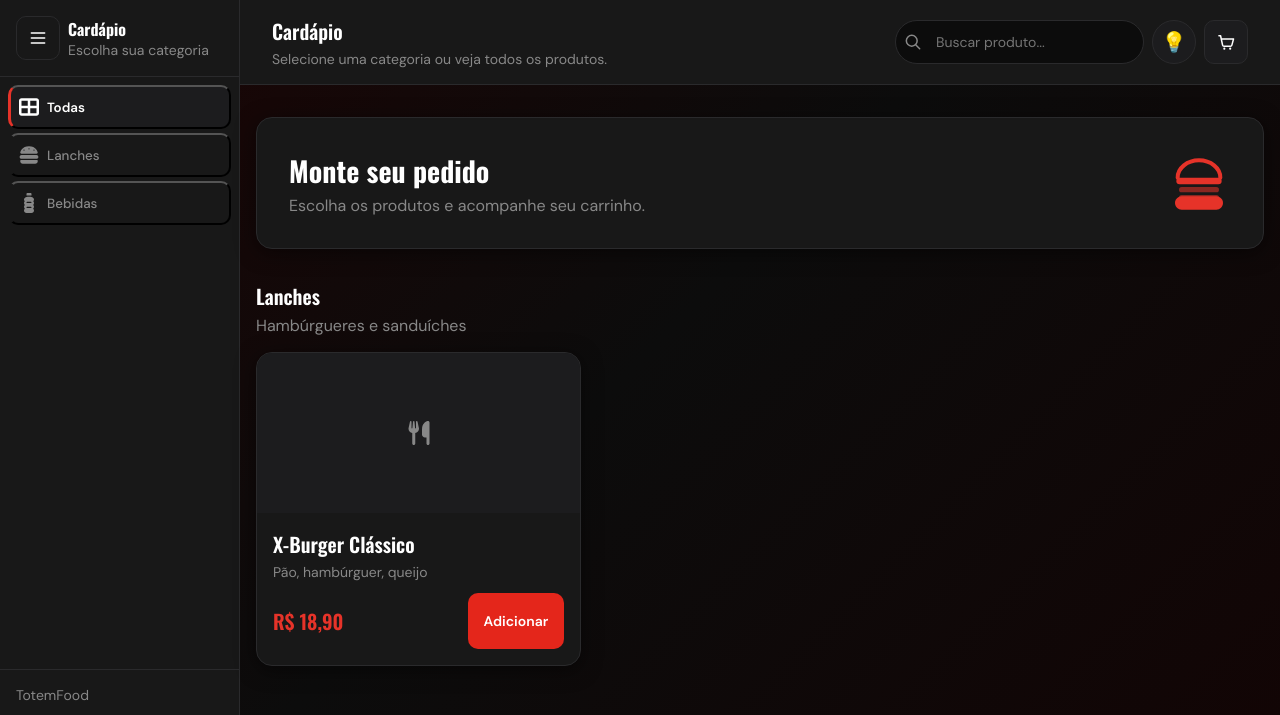
Test: TotemHomePage — modal de produto e modal de carrinho (TASK-120.1) › cancelar o modal do produto não altera o carrinho
Expected: the heading "X-Burger Clássico" is shown, left=273, top=529, right=415, bottom=559
Click the button "Adicionar". click: {"x": 516, "y": 621}
box: left=468, top=593, right=564, bottom=649
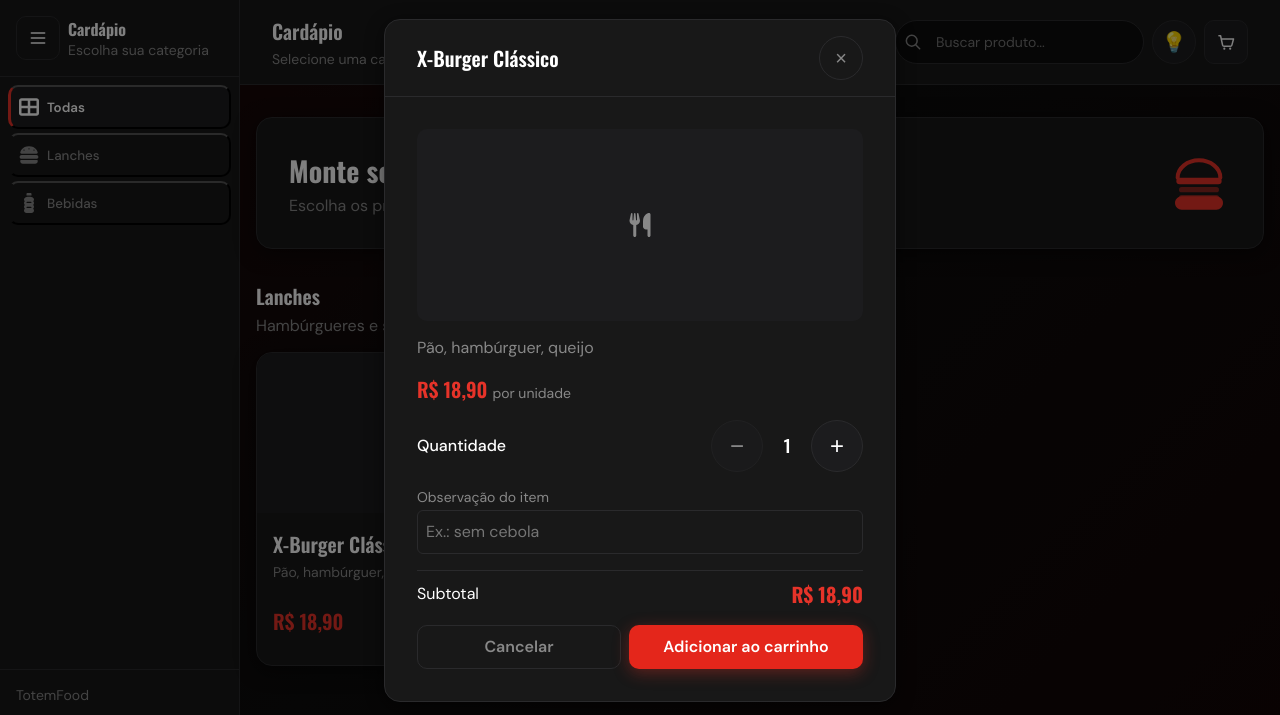
Click the button named "Aumentar quantidade". click: {"x": 837, "y": 446}
box: left=811, top=420, right=863, bottom=472
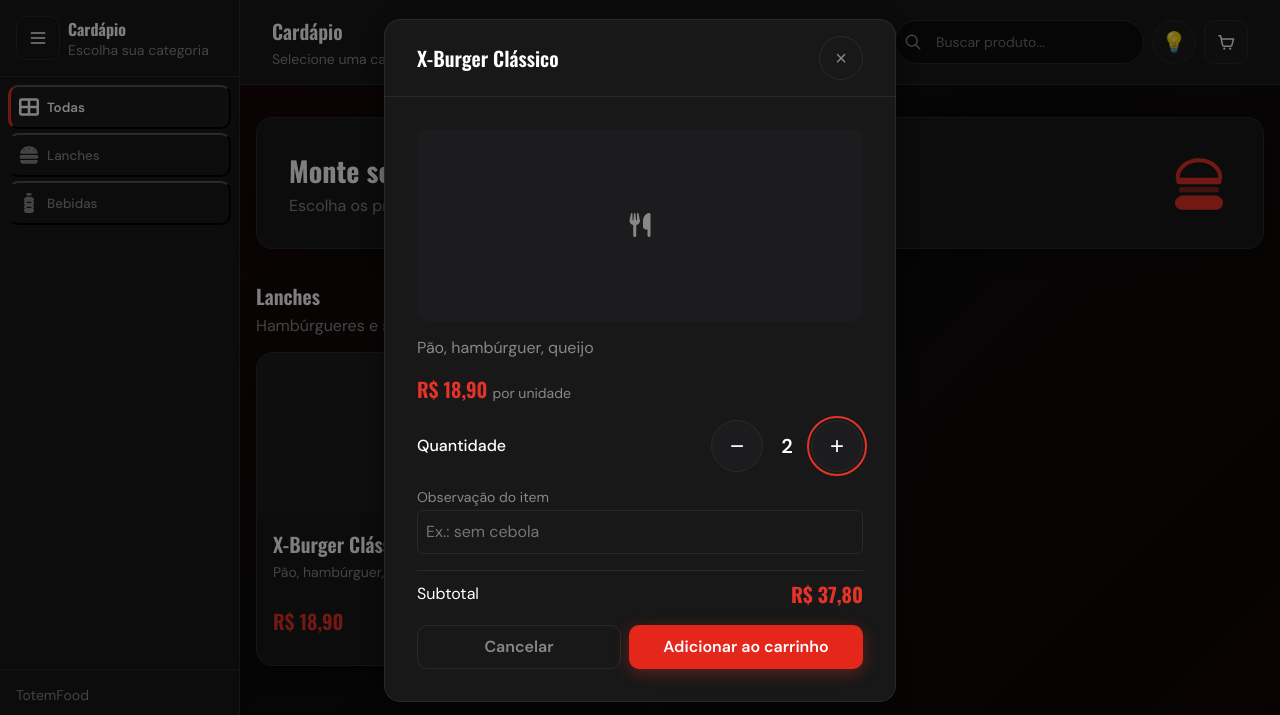
Click the button "Cancelar". click: {"x": 519, "y": 646}
box: left=417, top=624, right=621, bottom=668
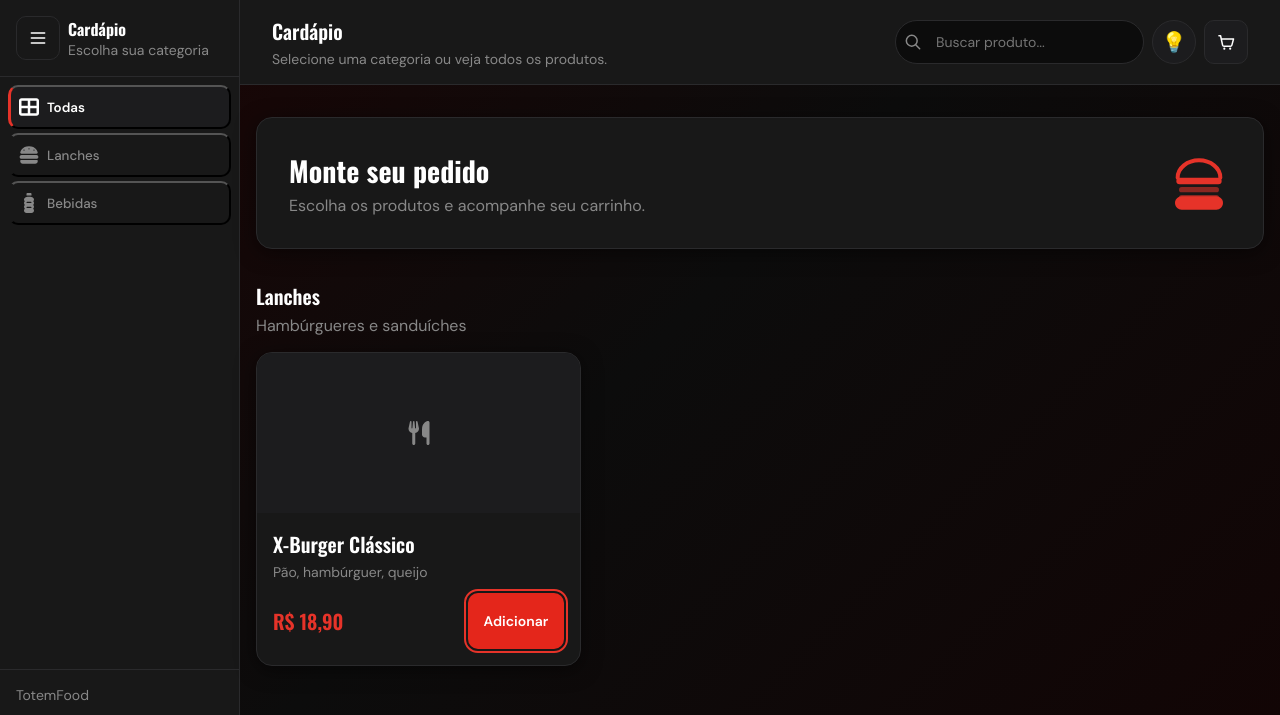
Expected: the button named "Abrir carrinho" is shown, left=1204, top=20, right=1248, bottom=64
Expected: the dialog is gone
